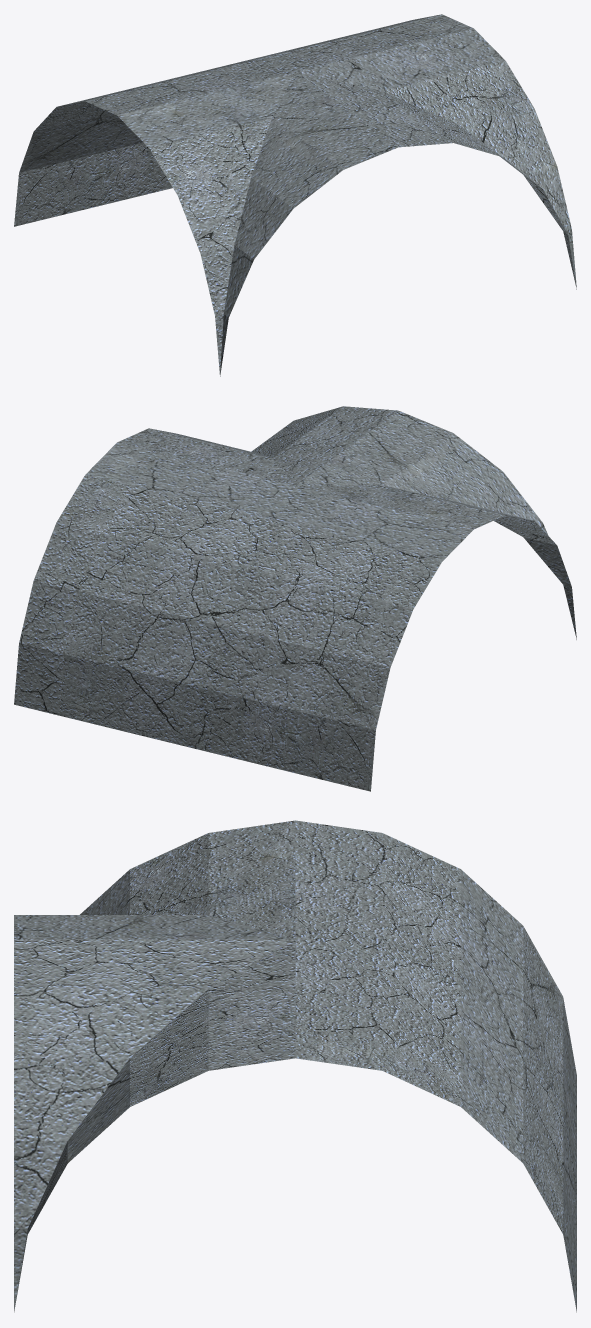
Rendered from ceiling_13.fbx.
The picture shows the model from 3 angles, top to bottom: view 1: azimuth 30°, elevation 25°; view 2: azimuth 150°, elevation 25°; view 3: azimuth 270°, elevation 25°; orthographic projection. The views are drawn at different scales.
Visible parts, largest first — view 1: ceiling_13; view 2: ceiling_13; view 3: ceiling_13.
Part boxes in pixels (box(x1,y1,x2,y2)): ceiling_13: box(14, 14, 576, 376); ceiling_13: box(14, 406, 576, 791); ceiling_13: box(14, 820, 576, 1312).
Bounding box in the file's own units: 100 × 50 × 100.
